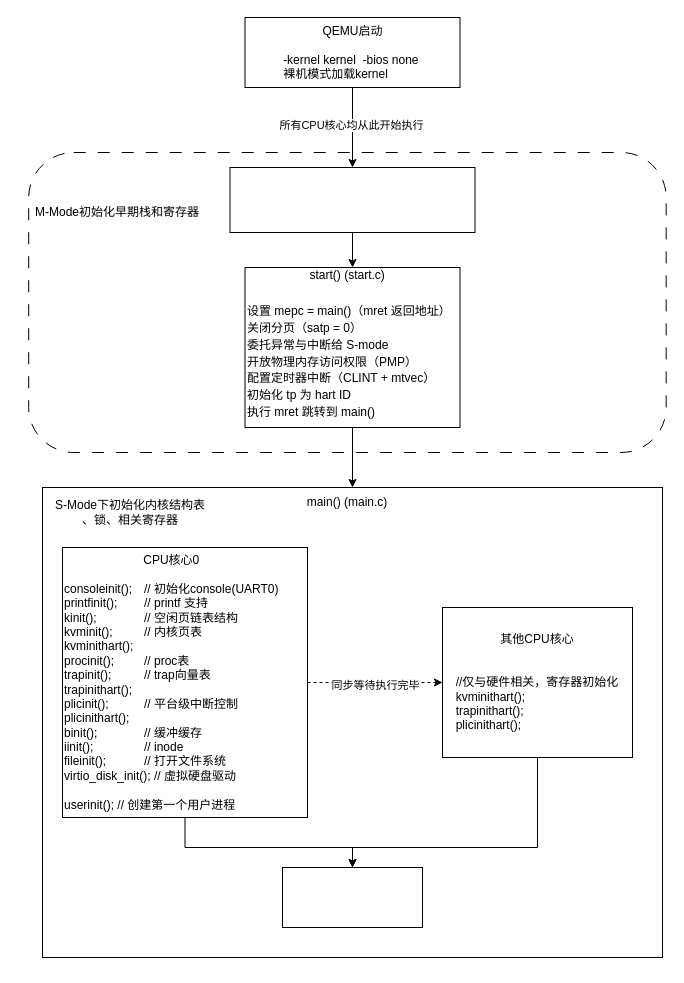
Some shapes in this 684 by 983 pixel diagram are drawn without their labels. Each missing label, with the box of its shape:
_entry (entry.S) kernel起始地址地址 0x80000000(kernel.ld) 设置栈sp，供C语言使用 call start(): (229, 166, 475, 232)
scheduler(); // 进程调度: (282, 866, 422, 928)
